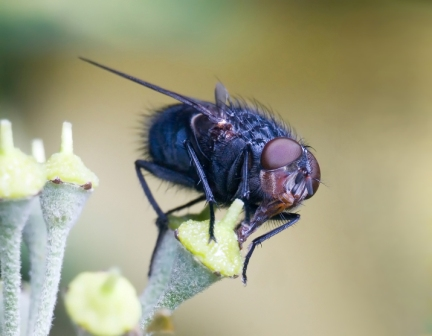fly: (72, 54, 325, 287)
